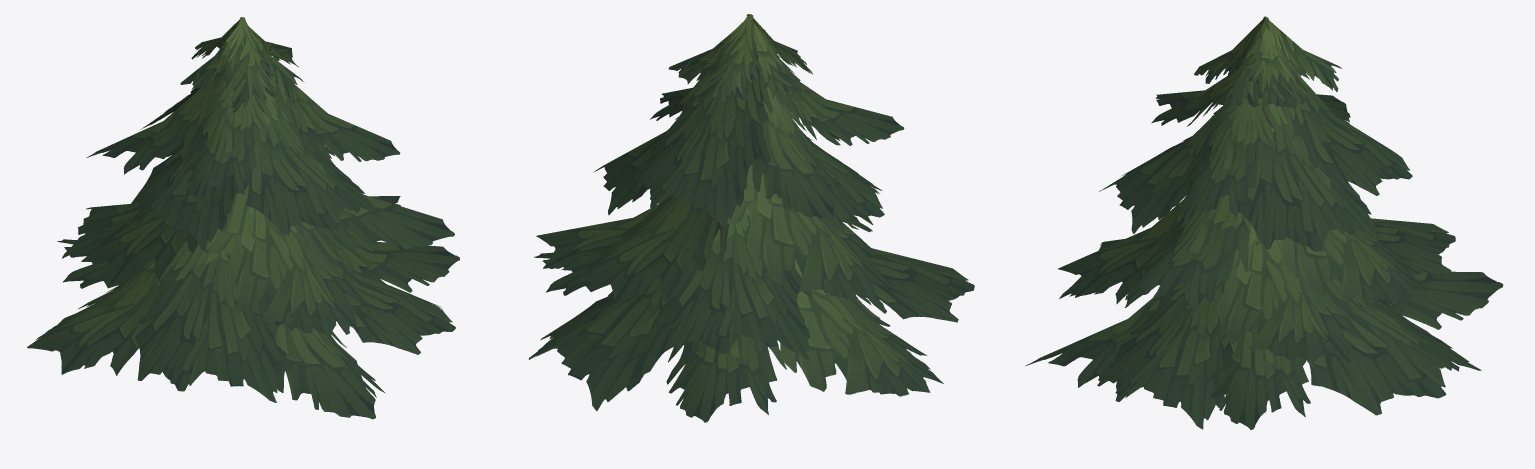
Rendered from Na_Leaf_01.FBX.
3 renders of one model, left to right at view 1: azimuth 30°, elevation 25°; view 2: azimuth 150°, elevation 25°; view 3: azimuth 270°, elevation 25°, orthographic. The views are drawn at different scales.
Parts seen in each view (by area): view 1: Na_Leaf_01; view 2: Na_Leaf_01; view 3: Na_Leaf_01.
Part boxes in pixels (x1,y1,x2,y2): Na_Leaf_01: [27, 17, 459, 419]; Na_Leaf_01: [528, 14, 974, 422]; Na_Leaf_01: [1025, 16, 1503, 429].
Size of the model in its own units: 5.58 by 4.39 by 5.5.
